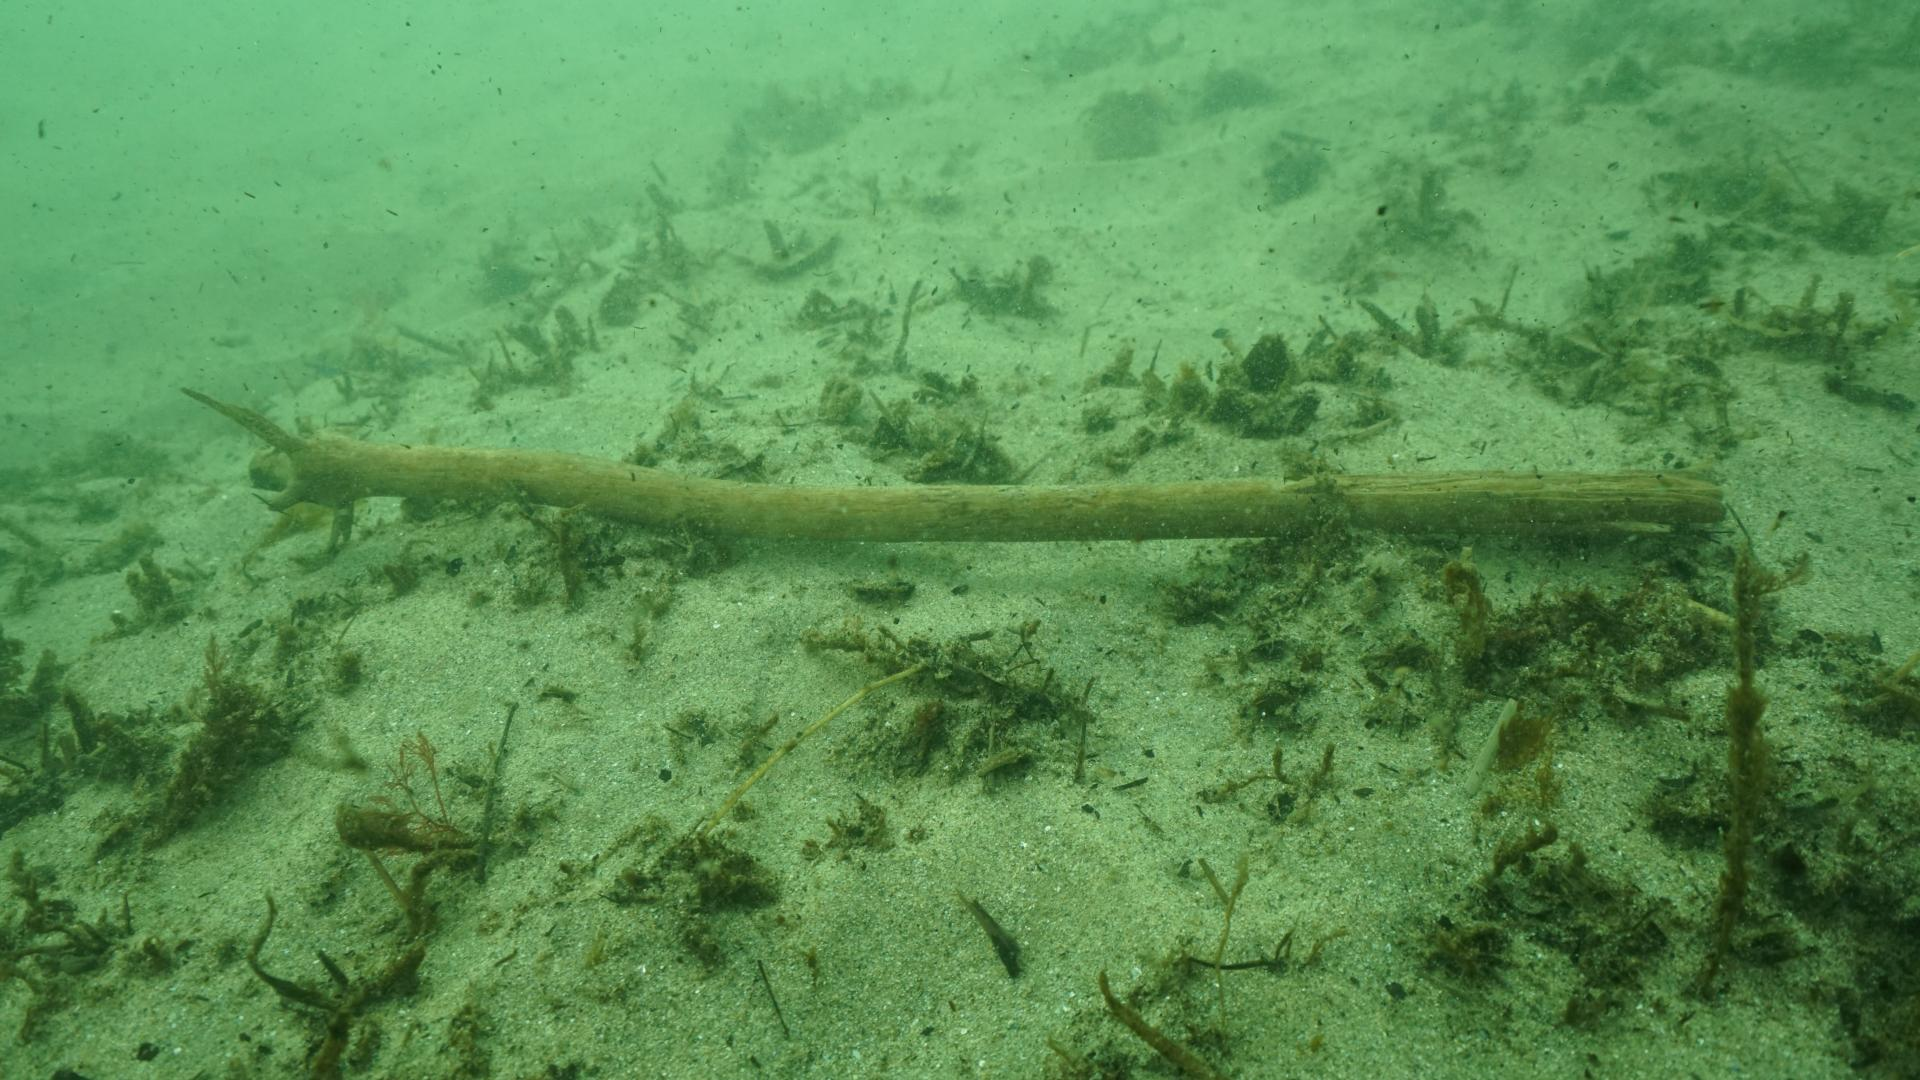wood: (178, 382, 1727, 543)
